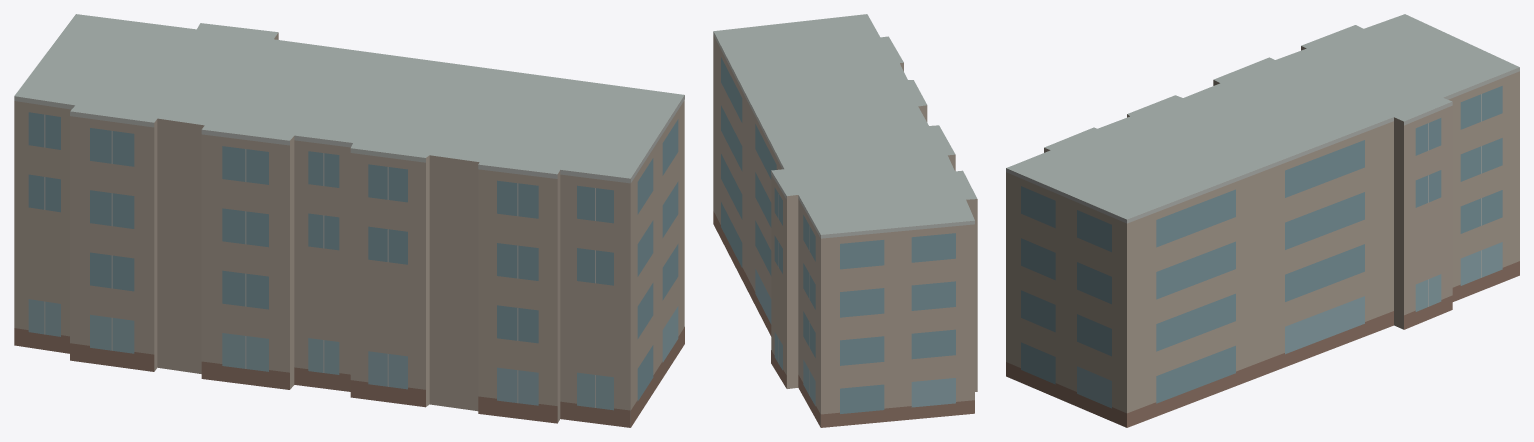
The model's file is survey-upis-32613081.glb.
The picture shows the model from 3 angles, left to right: view 1: azimuth 30°, elevation 25°; view 2: azimuth 150°, elevation 25°; view 3: azimuth 270°, elevation 25°; orthographic projection. The views are drawn at different scales.
Parts seen in each view (by area): view 1: survey-upis-32613081.tmp; view 2: survey-upis-32613081.tmp; view 3: survey-upis-32613081.tmp.
Boxes of the visible parts, x1,y1,x2,y2 form: survey-upis-32613081.tmp: (14,14,684,427); survey-upis-32613081.tmp: (713,14,977,427); survey-upis-32613081.tmp: (1006,14,1519,427).
Bounding box in the file's own units: 27.11 × 12.8 × 28.63.
